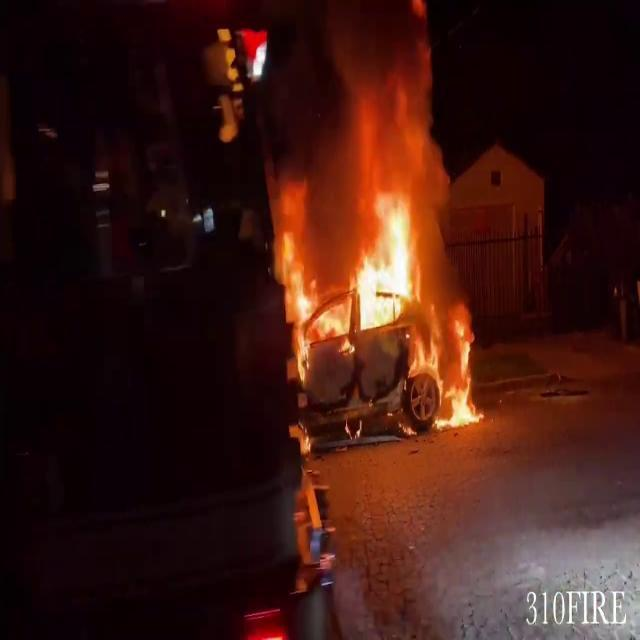Fire: (280, 148, 484, 436)
Smoke: (276, 0, 450, 196)
